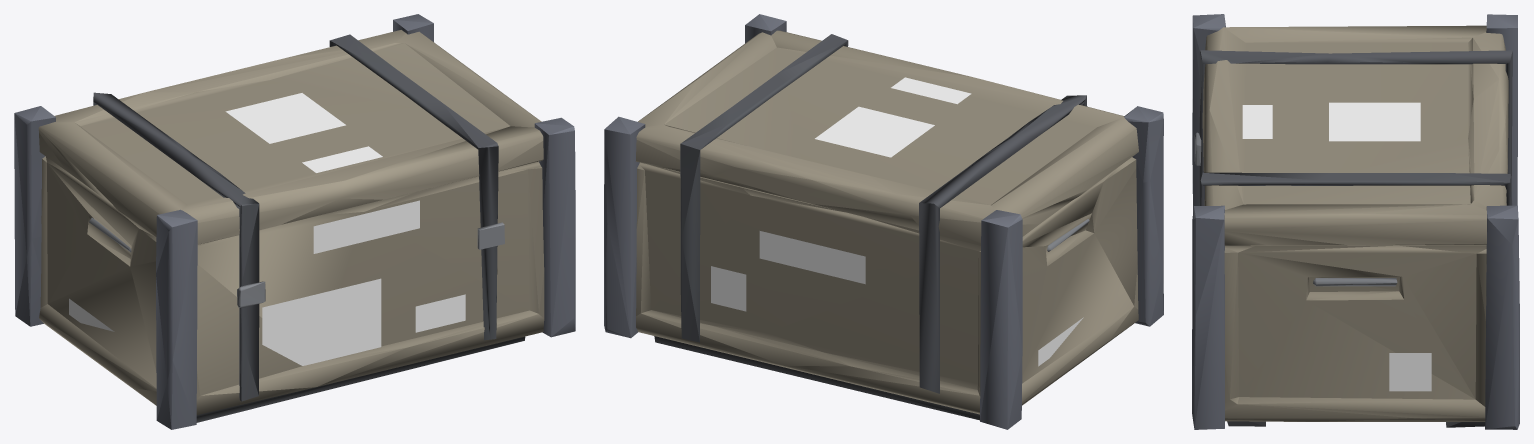
File: caisse_l_a.glb
3 renders of one model, left to right at view 1: azimuth 30°, elevation 25°; view 2: azimuth 150°, elevation 25°; view 3: azimuth 270°, elevation 25°, orthographic. The views are drawn at different scales.
Visible parts, largest first — view 1: caisse_l_a, caisse_l_a_decal; view 2: caisse_l_a, caisse_l_a_decal; view 3: caisse_l_a, caisse_l_a_decal.
Part boxes in pixels (x1,y1,x2,y2): caisse_l_a: (14,14,575,429); caisse_l_a_decal: (69,93,465,365); caisse_l_a: (604,14,1163,429); caisse_l_a_decal: (711,77,1083,366); caisse_l_a: (1192,14,1519,429); caisse_l_a_decal: (1242,102,1431,391).
Size of the model in its own units: 1.38 by 0.7192 by 0.9286.
